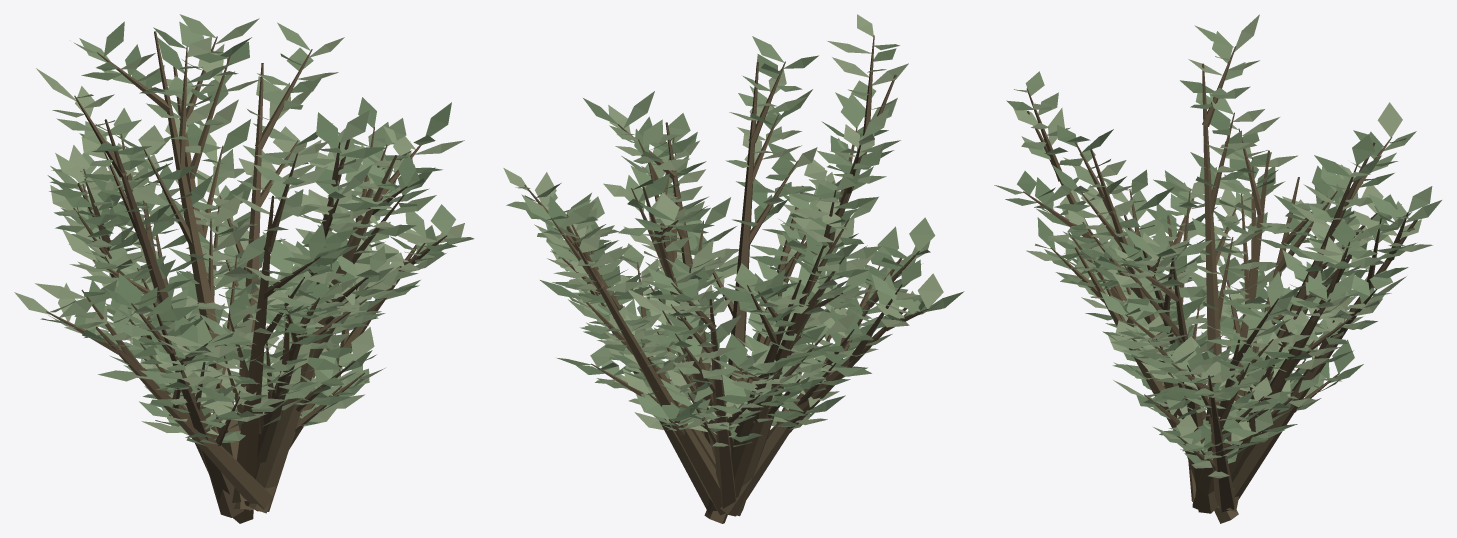
Rendered from bush_15.glb.
The picture shows the model from 3 angles, left to right: view 1: azimuth 30°, elevation 25°; view 2: azimuth 150°, elevation 25°; view 3: azimuth 270°, elevation 25°; orthographic projection. The views are drawn at different scales.
Visible parts, largest first — view 1: bush_15; view 2: bush_15; view 3: bush_15.
Part boxes in pixels (x1,y1,x2,y2): bush_15: [14, 14, 474, 523]; bush_15: [503, 14, 964, 523]; bush_15: [994, 14, 1441, 523].
Bounding box in the file's own units: 1.62 × 1.72 × 1.64.
